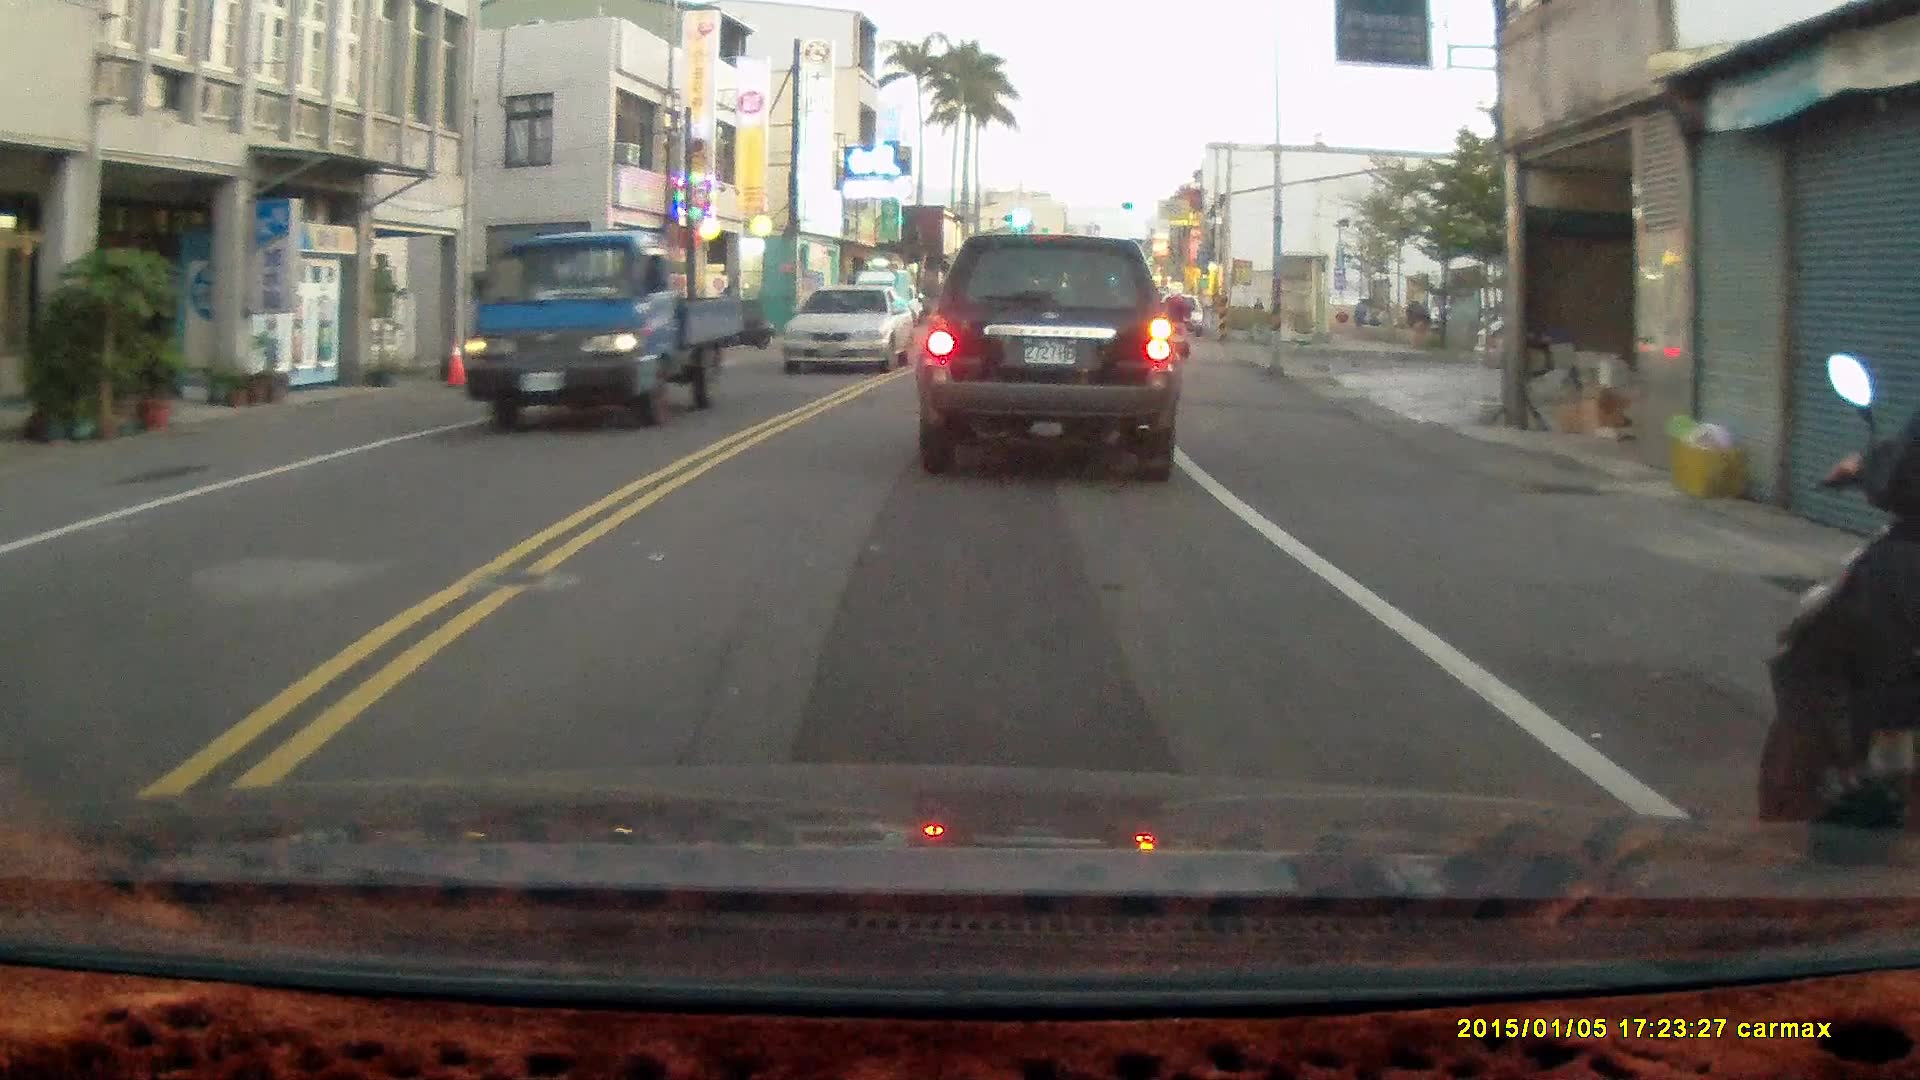rider: (1763, 317, 1920, 897), (1160, 278, 1192, 362)
vehicle: (917, 227, 1187, 481), (452, 223, 749, 427), (785, 284, 910, 379)
